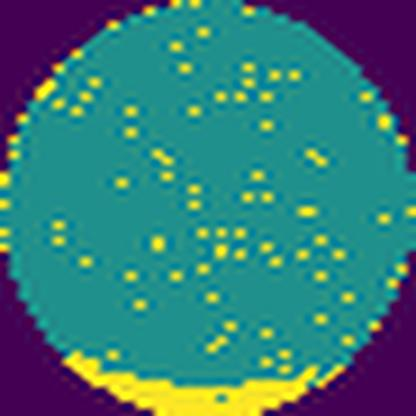Edge-Loc: (52, 344, 319, 416)
